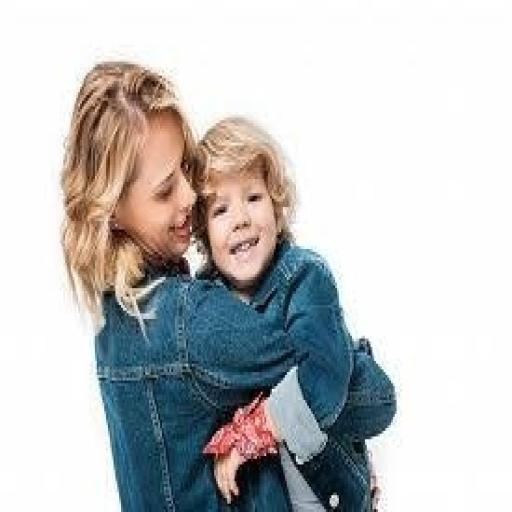hugging: (58, 56, 394, 509)
